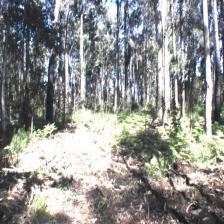trunktrack_idkeyframe: (205, 52, 212, 134), (45, 69, 55, 121), (214, 56, 221, 120)
